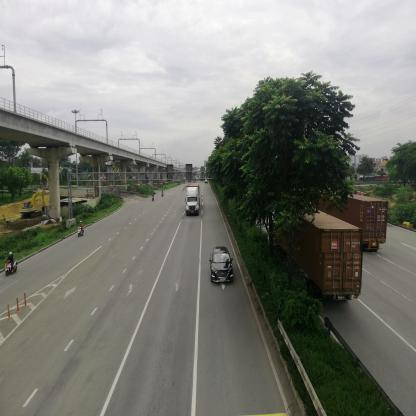car: (210, 248, 234, 284)
container: (276, 213, 362, 300), (316, 196, 392, 254), (186, 187, 200, 217)
motorbike: (7, 253, 19, 276), (77, 221, 85, 237), (152, 194, 156, 204), (161, 192, 164, 197)
